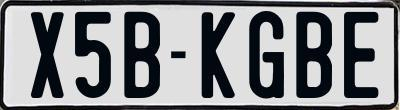5: (75, 12, 112, 99)
B: (121, 9, 163, 96), (294, 12, 331, 102)
E: (341, 9, 381, 96)
G: (249, 10, 288, 99)
K: (200, 11, 237, 97)
X: (28, 9, 64, 99)
